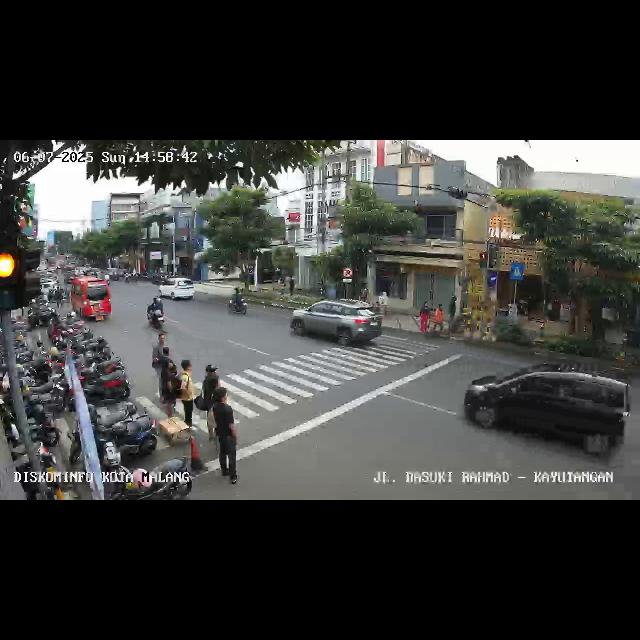car: (465, 368, 629, 460), (291, 298, 383, 348), (68, 278, 112, 322), (158, 278, 196, 304)
motorcycle: (146, 295, 166, 329), (226, 286, 248, 316)
person: (211, 390, 239, 484), (178, 361, 198, 429), (204, 363, 220, 442), (150, 330, 166, 406), (160, 348, 174, 418), (434, 302, 444, 338), (419, 300, 428, 336)
